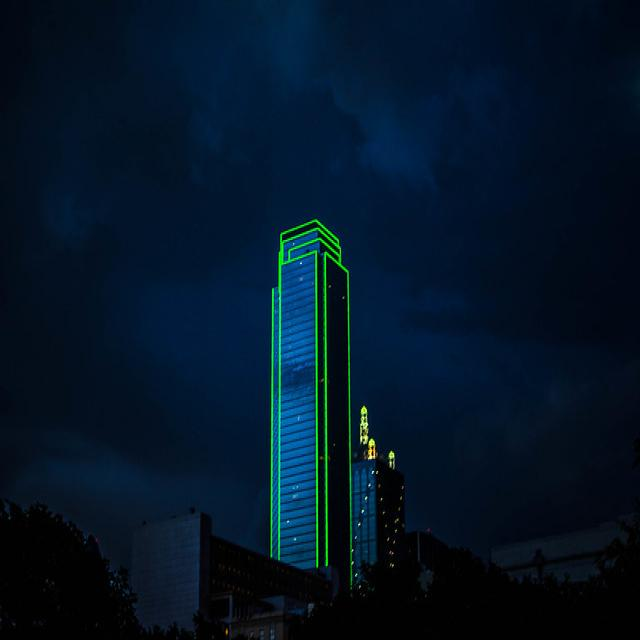Normal_building: (266, 213, 354, 592)
